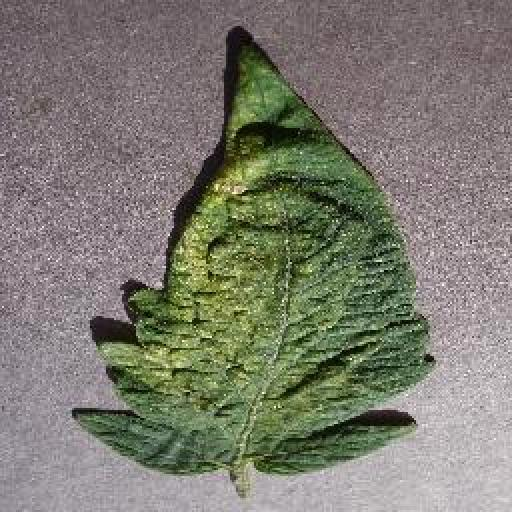disease_tomato: (72, 36, 434, 476)
